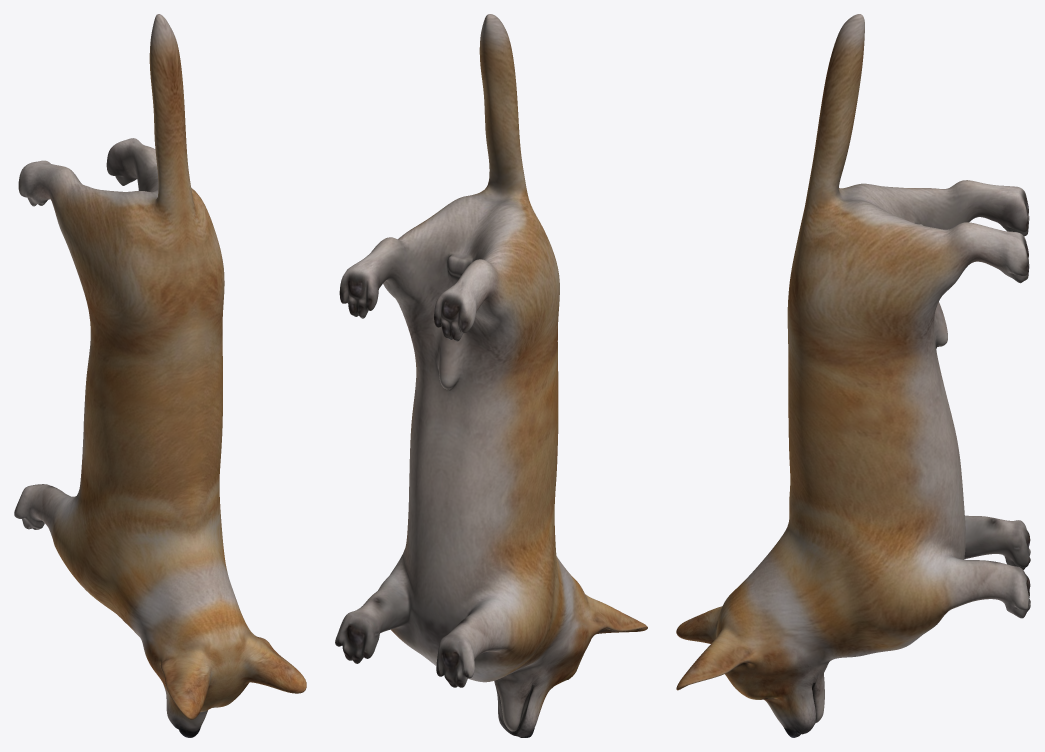
Rendered from coggi.glb.
3 views of the same model, side by side, from view 1: azimuth 30°, elevation 25°; view 2: azimuth 150°, elevation 25°; view 3: azimuth 270°, elevation 25° (orthographic). The views are drawn at different scales.
Visible parts, largest first — view 1: 13467_Cardigan_Welsh_Corgi_v1_L3; view 2: 13467_Cardigan_Welsh_Corgi_v1_L3; view 3: 13467_Cardigan_Welsh_Corgi_v1_L3.
Boxes of the visible parts, x1,y1,x2,y2 form: 13467_Cardigan_Welsh_Corgi_v1_L3: (14,14,306,737); 13467_Cardigan_Welsh_Corgi_v1_L3: (335,14,647,737); 13467_Cardigan_Welsh_Corgi_v1_L3: (676,14,1030,737).
Bounding box in the file's own units: 6.74 × 33.4 × 14.84.
1 material, 1 textured.
